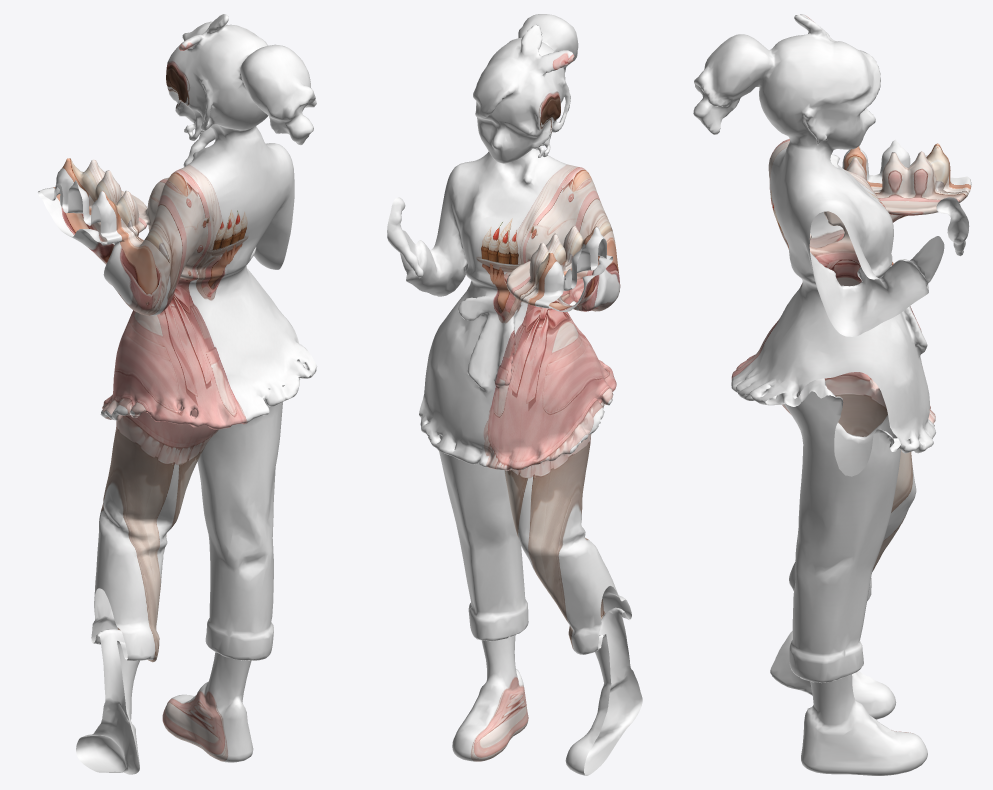
Rendered from BakeryOwner_TexturedProjection.obj.
3 renders of one model, left to right at view 1: azimuth 30°, elevation 25°; view 2: azimuth 150°, elevation 25°; view 3: azimuth 270°, elevation 25°, orthographic. The views are drawn at different scales.
Visible parts, largest first — view 1: BakeryOwner_Modly_FirstPass; view 2: BakeryOwner_Modly_FirstPass; view 3: BakeryOwner_Modly_FirstPass.
Part boxes in pixels (<box>): BakeryOwner_Modly_FirstPass: <box>37,14,317,774</box>; BakeryOwner_Modly_FirstPass: <box>387,14,642,775</box>; BakeryOwner_Modly_FirstPass: <box>693,14,971,775</box>.
Bounding box in the file's own units: 0.6888 × 1.82 × 0.6318.
1 material, 1 textured.
